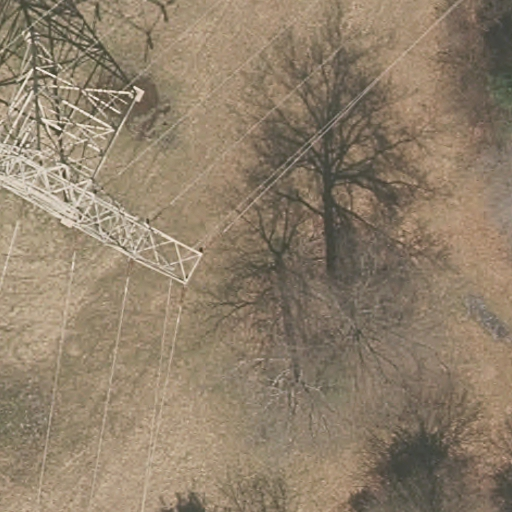TT: (1, 24, 204, 286)
